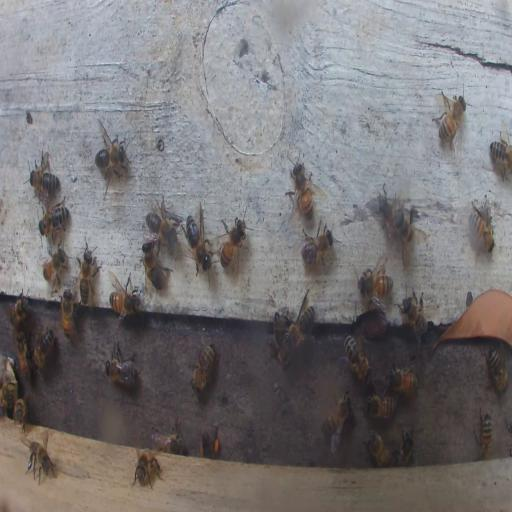bee: (433, 88, 467, 150), (320, 390, 352, 455), (396, 287, 434, 341), (301, 214, 334, 273), (285, 289, 315, 352), (94, 131, 128, 185), (184, 208, 211, 273), (217, 213, 247, 270), (144, 196, 178, 243), (28, 152, 60, 201), (141, 240, 170, 292), (104, 348, 140, 387), (468, 202, 495, 254), (343, 335, 372, 383), (392, 203, 415, 262), (108, 276, 141, 317), (26, 439, 56, 483), (356, 262, 392, 298), (292, 161, 314, 219), (488, 126, 512, 179), (191, 344, 216, 394), (39, 201, 70, 238), (42, 245, 68, 289), (378, 195, 403, 240), (152, 418, 184, 452), (389, 358, 417, 396), (134, 450, 162, 488), (31, 326, 54, 372), (365, 428, 392, 466), (272, 320, 294, 366), (473, 406, 493, 456), (486, 348, 508, 393), (4, 291, 29, 328), (61, 288, 77, 345), (15, 329, 32, 382), (365, 392, 396, 418), (80, 248, 94, 304), (1, 370, 17, 415), (199, 428, 220, 460), (396, 429, 414, 465), (14, 397, 27, 431)
